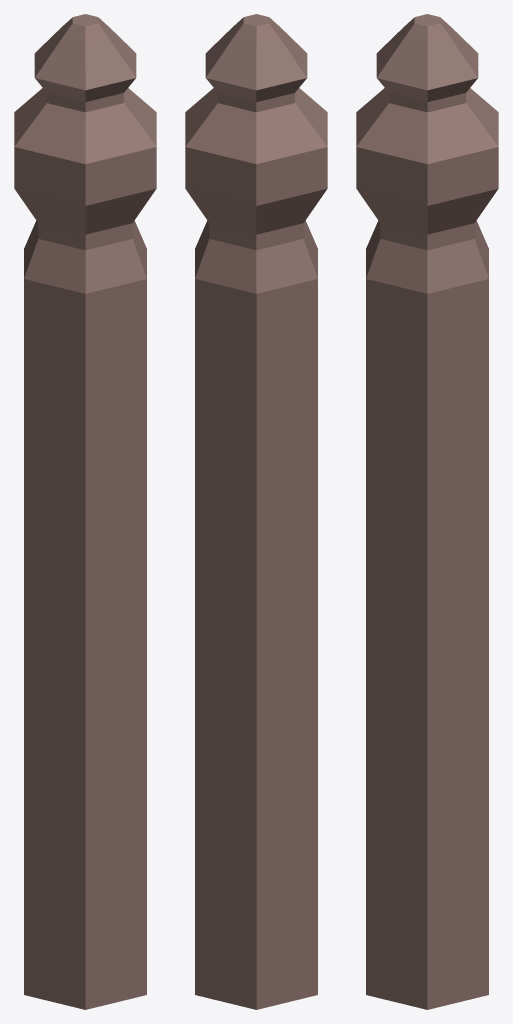
File: Wood_Pole.fbx
The picture shows the model from 3 angles, left to right: view 1: azimuth 30°, elevation 25°; view 2: azimuth 150°, elevation 25°; view 3: azimuth 270°, elevation 25°; orthographic projection.
Parts seen in each view (by area): view 1: pole; view 2: pole; view 3: pole.
Part boxes in pixels (x1,y1,x2,y2): pole: (14, 14, 156, 1009); pole: (185, 14, 327, 1009); pole: (356, 14, 498, 1009).
Size of the model in its own units: 25.49 by 164 by 22.07.
